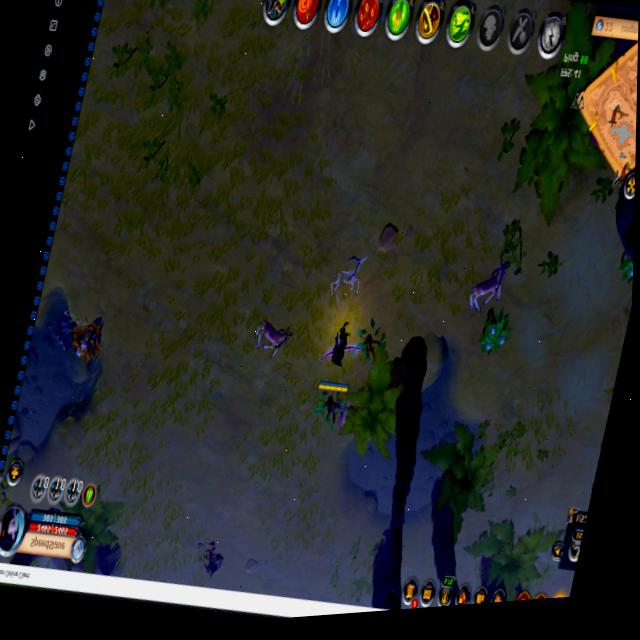hide: (68, 314, 106, 369), (475, 307, 512, 362), (614, 252, 633, 292)
mob: (462, 254, 511, 323), (248, 312, 297, 364)
red: (316, 321, 360, 397)
